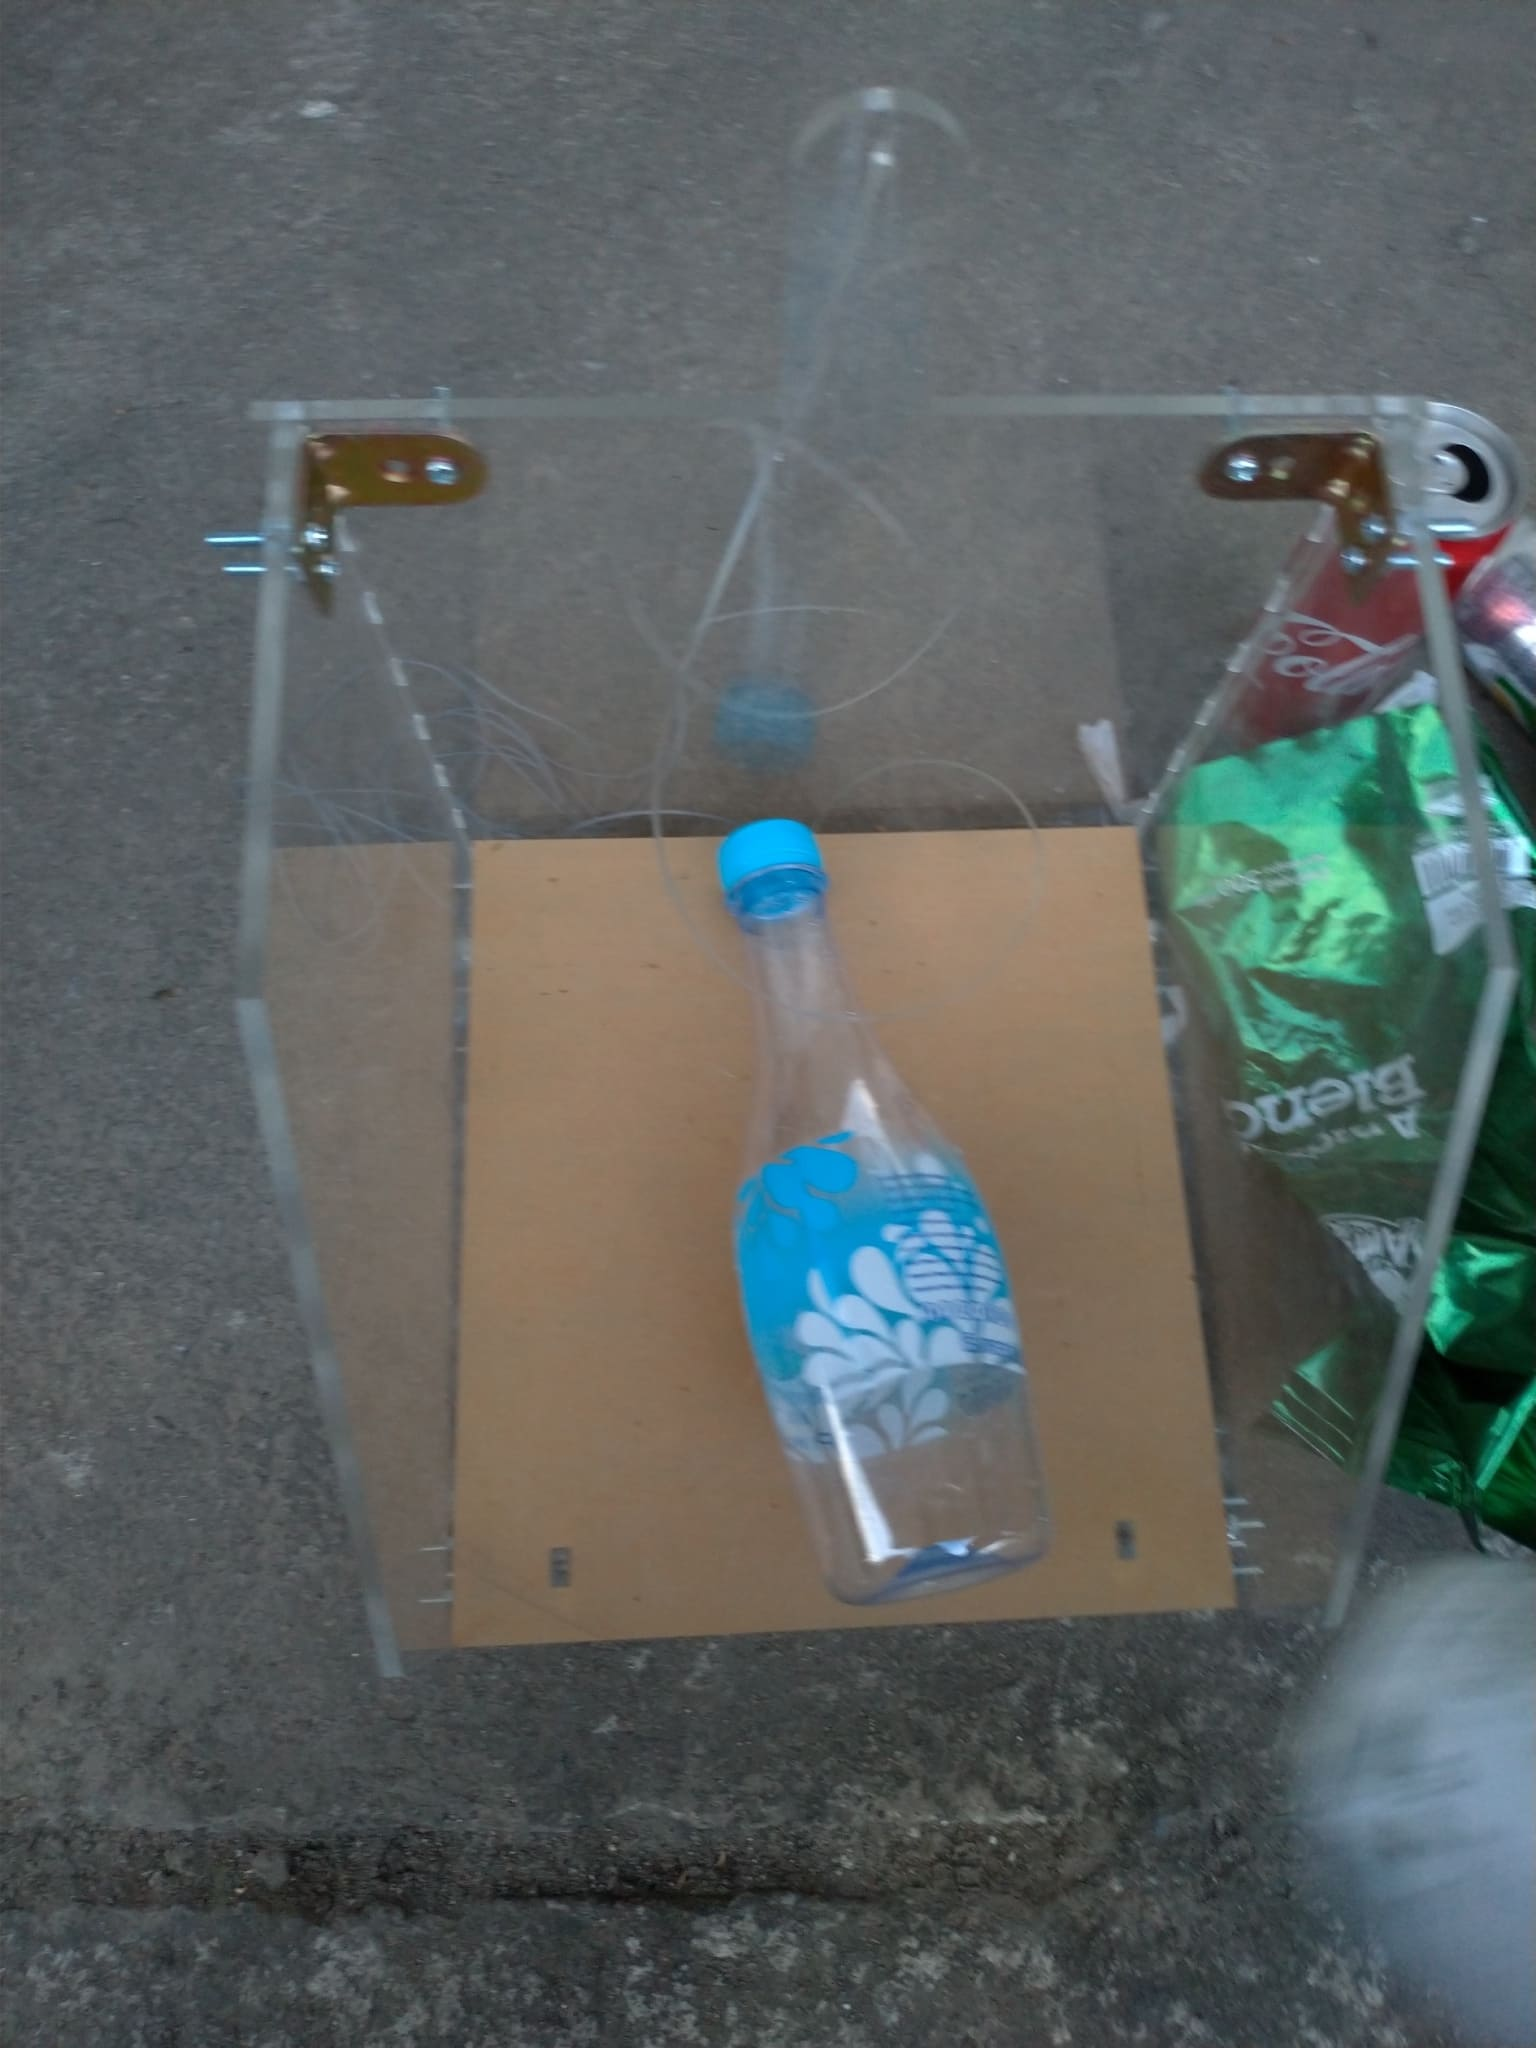AlCan: (1218, 410, 1512, 729)
Others: (1167, 703, 1536, 1517)
PlasticBottle: (715, 822, 1041, 1609)
